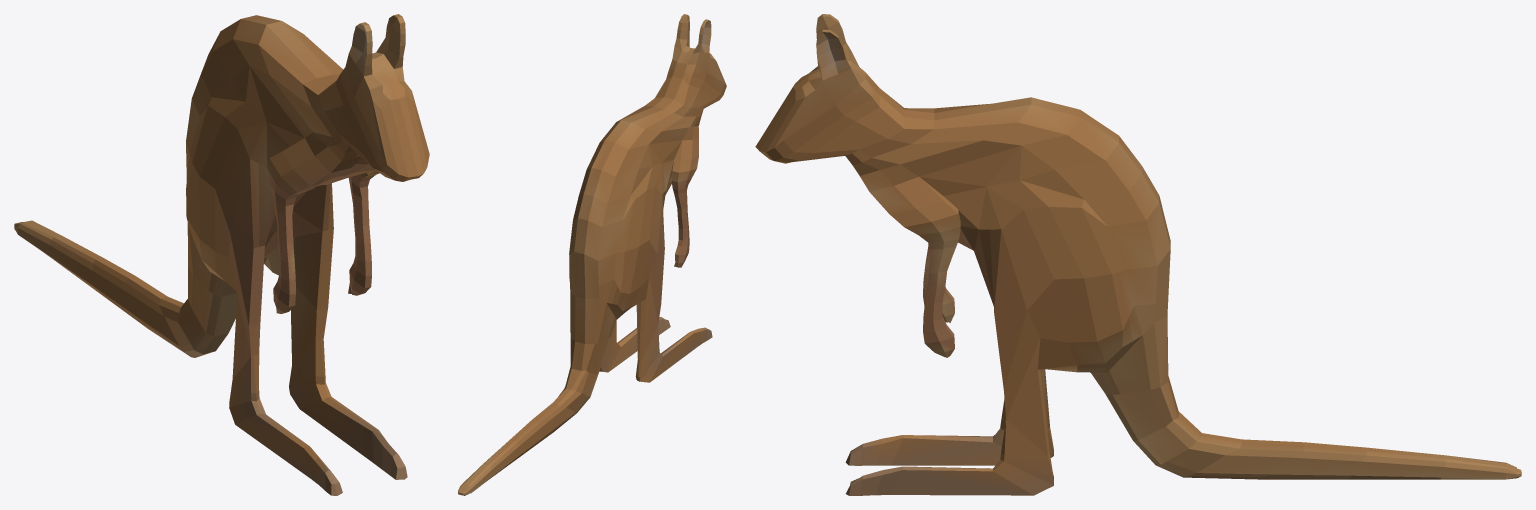
File: kangaroo-vertex.fbx
3 views of the same model, side by side, from view 1: azimuth 30°, elevation 25°; view 2: azimuth 150°, elevation 25°; view 3: azimuth 270°, elevation 25° (orthographic). The views are drawn at different scales.
Visible parts, largest first — view 1: Plane; view 2: Plane; view 3: Plane.
Part boxes in pixels (x1,y1,x2,y2): Plane: (14, 14, 429, 495); Plane: (458, 14, 726, 495); Plane: (755, 14, 1521, 495).
Bounding box in the file's own units: 48.99 × 236 × 359.
